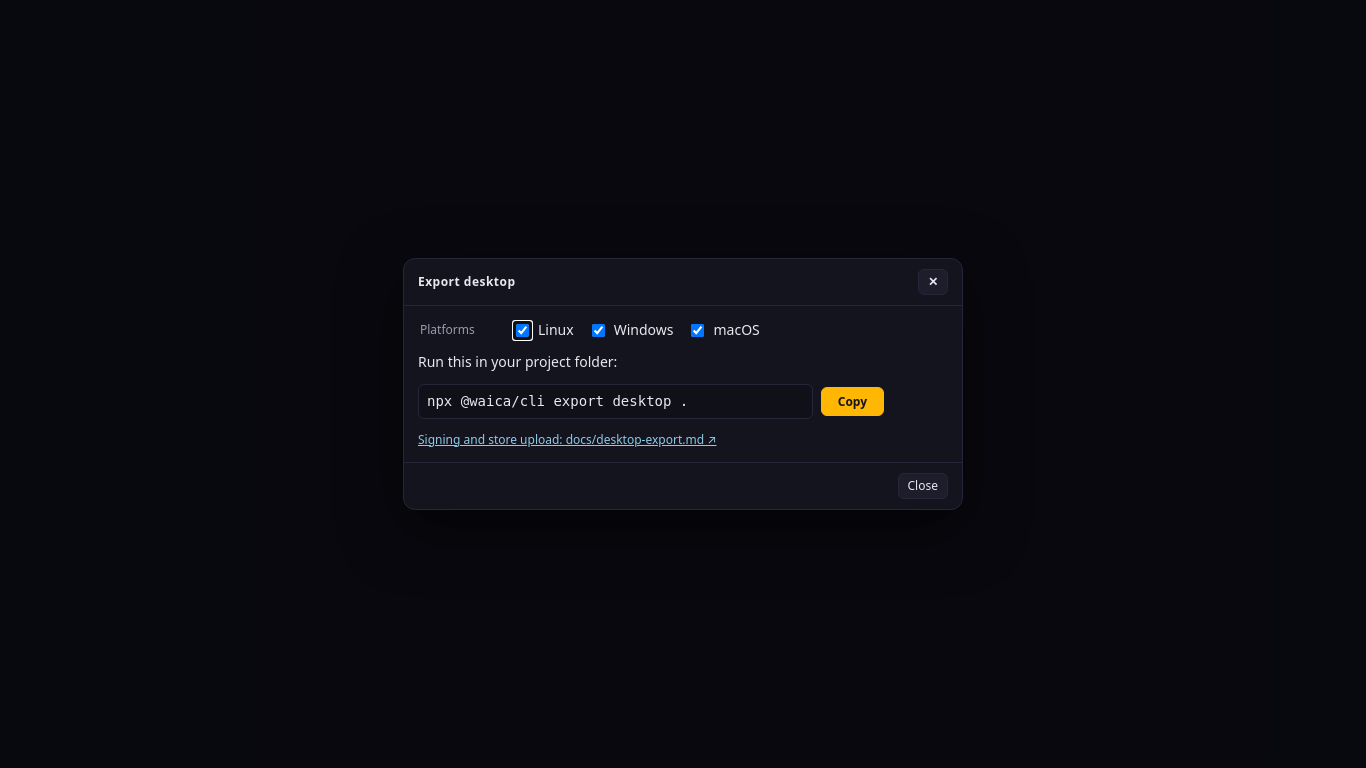
Test: ExportDesktopModal copies the command (issue 200 CA-25) › tells how to copy by hand when the clipboard refuses
Click the button "Copy" at (852, 402), box 821,387 -> 884,416
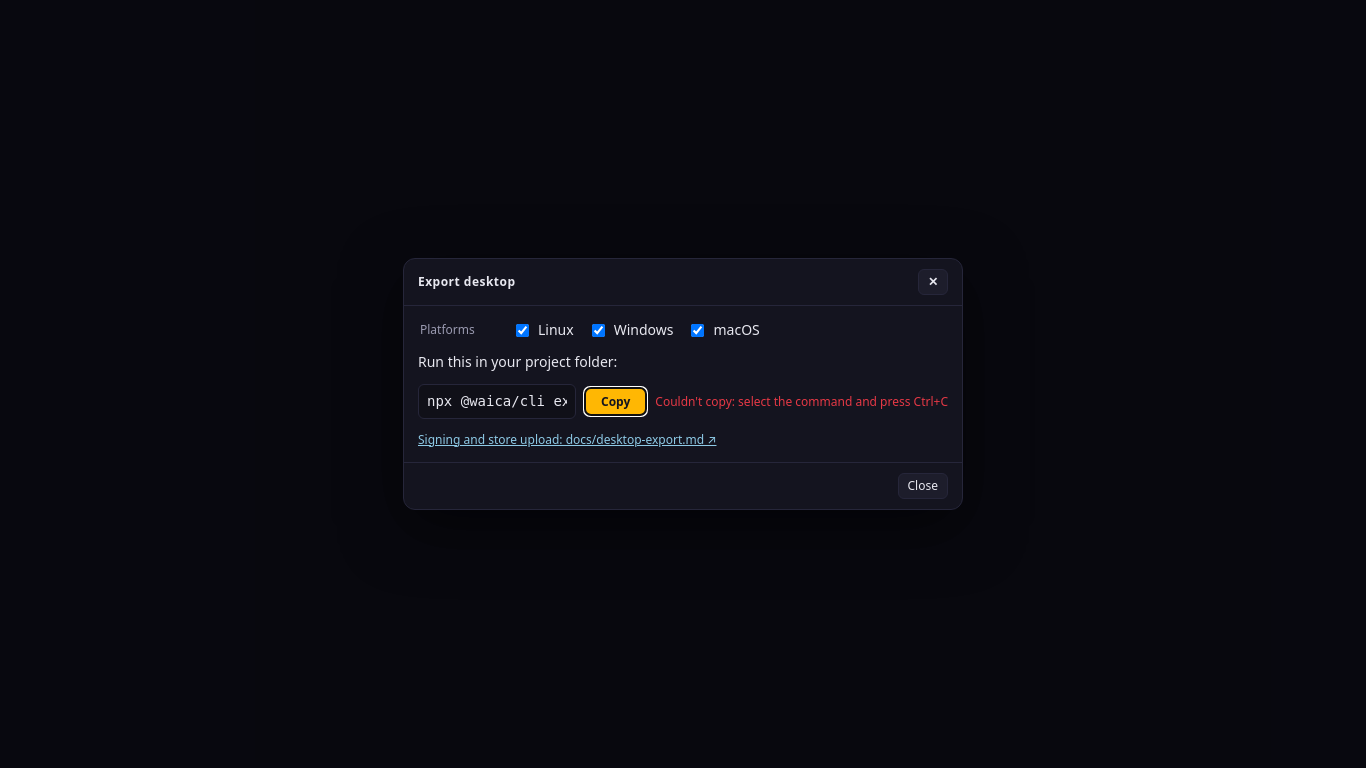
Check: the text "Couldn't copy: select the command and press Ctrl+C" is shown, box 655,393 -> 948,410
